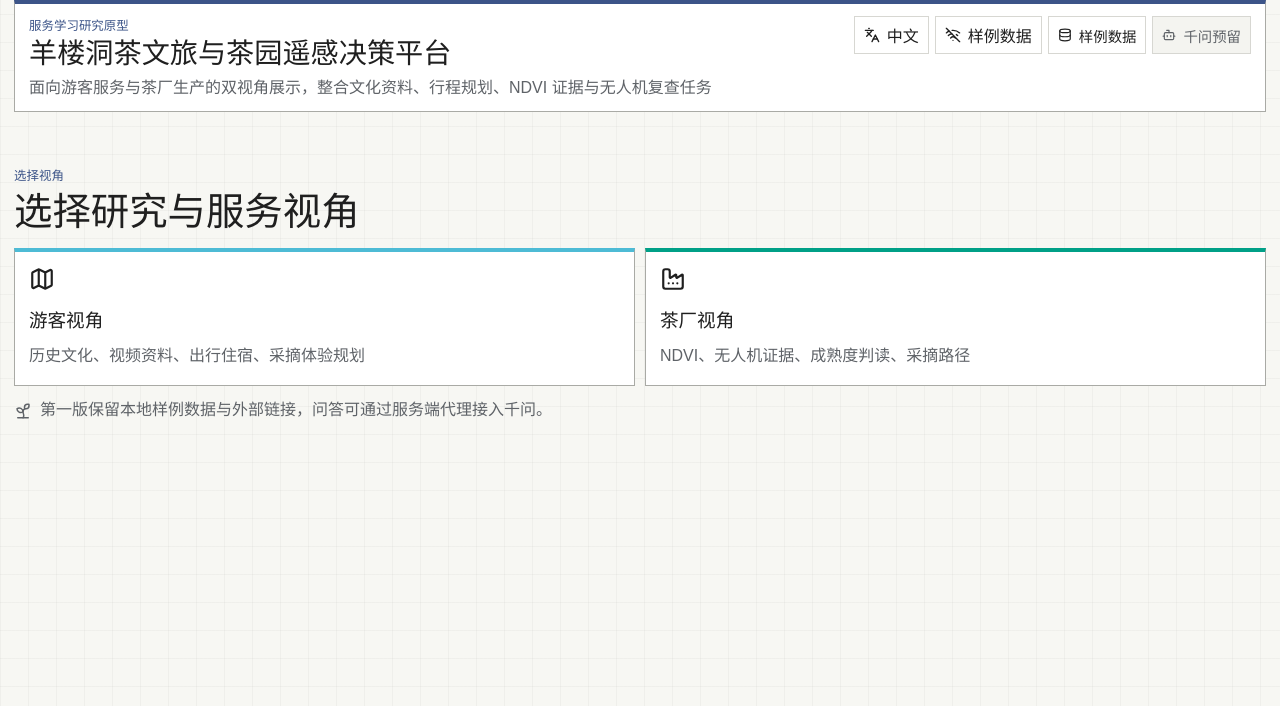
Scenario: App › shows visitor travel links when the travel feature is selected
Click the button "游客视角 历史文化、视频资料、出行住宿、采摘体验规划" at (66, 320), box left=14, top=248, right=635, bottom=386
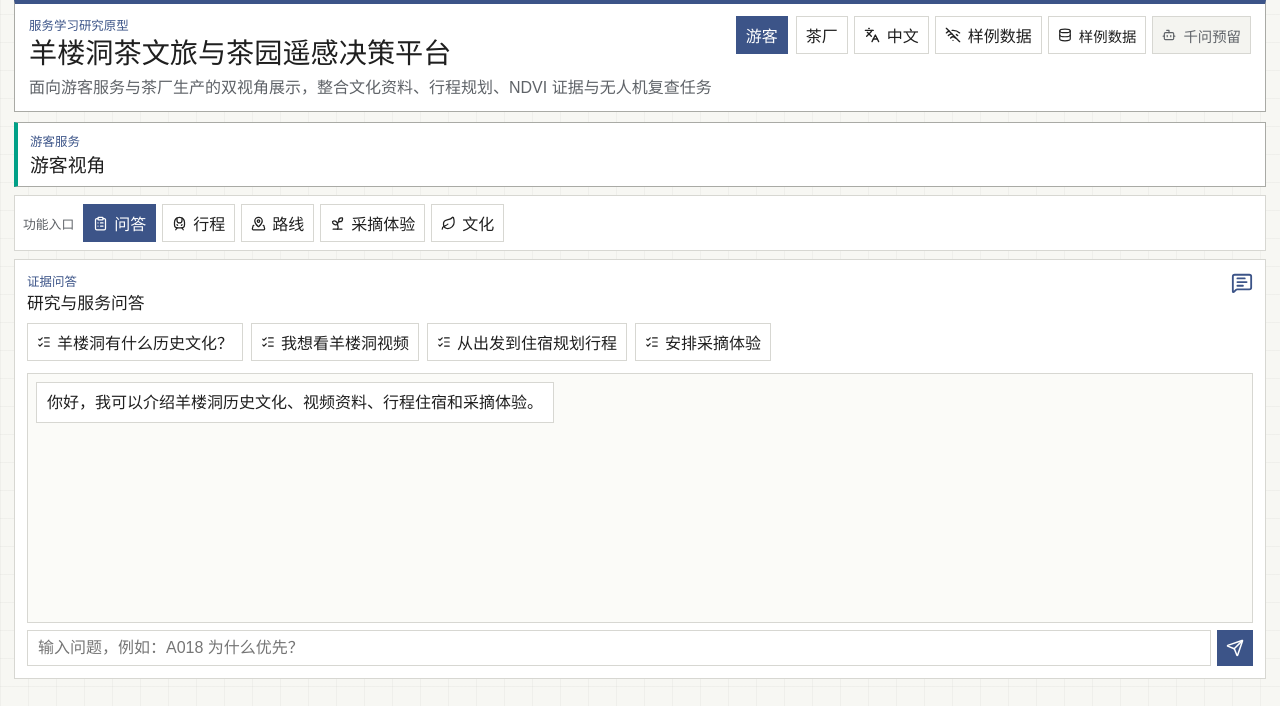
Click the button "行程" at (199, 223), box left=162, top=204, right=235, bottom=242
(page scrolled)
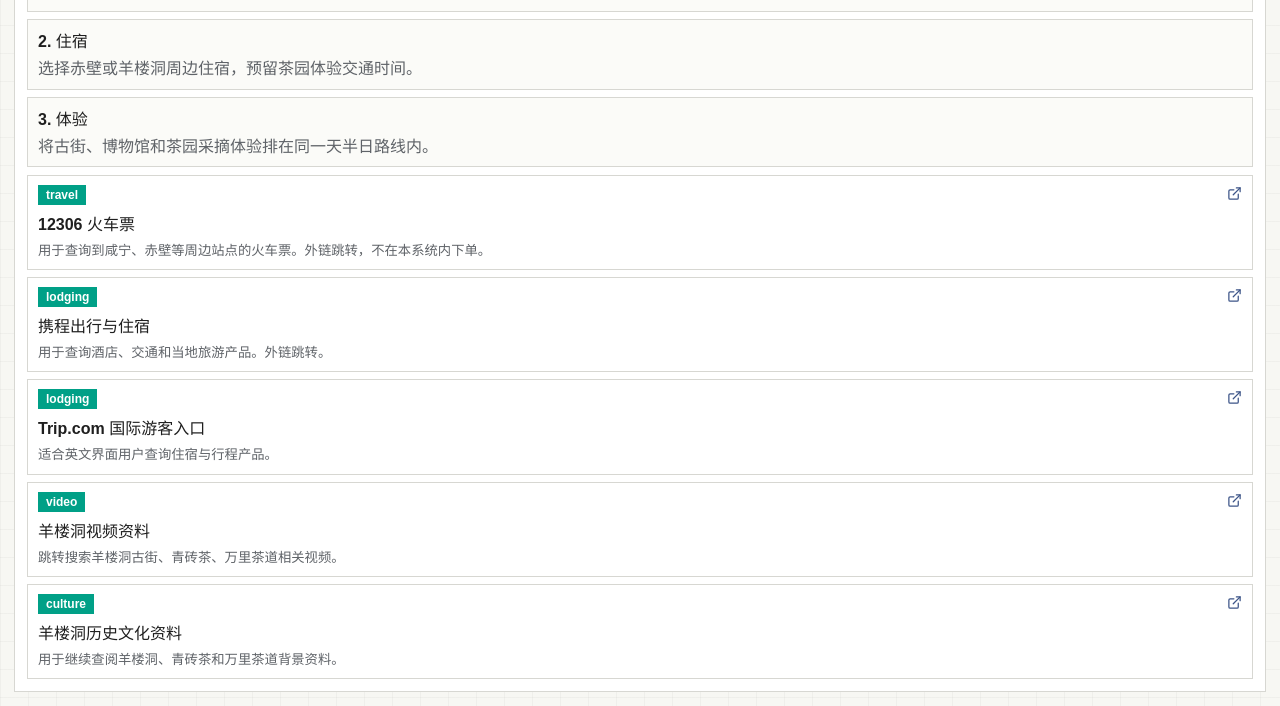
Result: the text "12306 火车票" is shown at left=38, top=216, right=135, bottom=233
Result: the text "携程出行与住宿" is shown at left=38, top=318, right=150, bottom=335
Result: the text "羊楼洞视频资料" is shown at left=38, top=523, right=150, bottom=540
